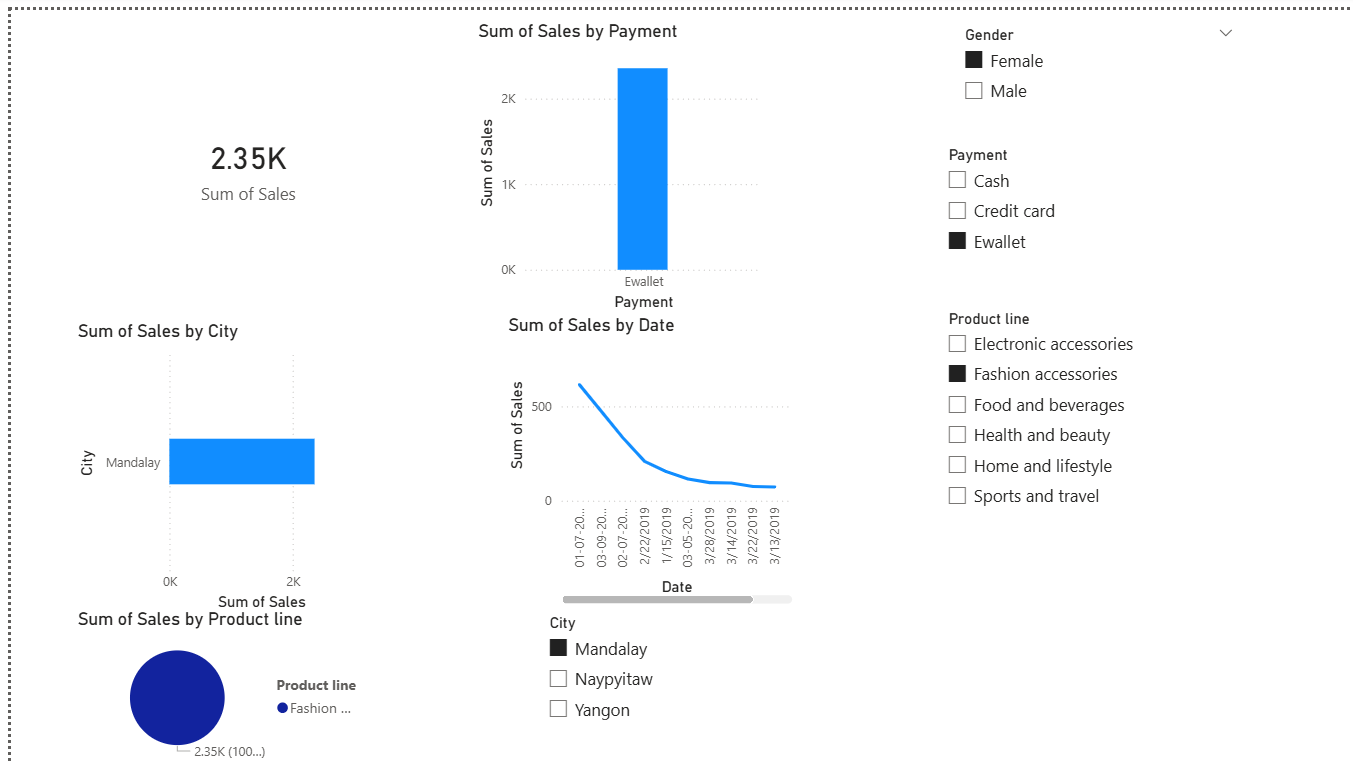

What the dashboard file says about the page in this screenshot:
{"tool":"powerbi","page":{"name":"Page 1","canvas":[1280,720],"ordinal":0},"visuals":[{"type":"card","fields":{"Values":["Sum(SuperMarket Analysis.Sales)"]},"box":[85.7,10,280,280],"z":0},{"type":"clusteredBarChart","fields":{"Category":["SuperMarket Analysis.City"],"Y":["Sum(SuperMarket Analysis.Sales)"]},"box":[58.6,295.7,280,280],"z":1},{"type":"pieChart","fields":{"Category":["SuperMarket Analysis.Product line"],"Y":["Sum(SuperMarket Analysis.Sales)"]},"box":[58.6,570,280,150],"z":2},{"type":"clusteredColumnChart","fields":{"Category":["SuperMarket Analysis.Payment"],"Y":["Sum(SuperMarket Analysis.Sales)"]},"box":[440,10,280,280],"z":3},{"type":"lineChart","fields":{"Category":["SuperMarket Analysis.Date"],"Y":["Sum(SuperMarket Analysis.Sales)"]},"box":[468.6,290,280,280],"z":4},{"type":"slicer","fields":{"Values":["SuperMarket Analysis.City"]},"box":[500,570,280,150],"z":5},{"type":"slicer","fields":{"Values":["SuperMarket Analysis.Gender"]},"box":[895.7,10,280,114.3],"z":6},{"type":"slicer","fields":{"Values":["SuperMarket Analysis.Payment"]},"box":[880,124.3,280,155.7],"z":7},{"type":"slicer","fields":{"Values":["SuperMarket Analysis.Product line"]},"box":[880,280,280,228.6],"z":8}]}

Visuals, with their boxes in screenshot pixels (x1, y1, x2, y2), scaled from the page's 1280x720 canvas onto the 1353x765 screenshot:
card - Sum(SuperMarket Analysis.Sales): locate(91, 11, 387, 308)
clusteredBarChart - SuperMarket Analysis.City x Sum(SuperMarket Analysis.Sales): locate(62, 314, 358, 612)
pieChart - SuperMarket Analysis.Product line x Sum(SuperMarket Analysis.Sales): locate(62, 606, 358, 764)
clusteredColumnChart - SuperMarket Analysis.Payment x Sum(SuperMarket Analysis.Sales): locate(465, 11, 761, 308)
lineChart - SuperMarket Analysis.Date x Sum(SuperMarket Analysis.Sales): locate(495, 308, 791, 606)
slicer - SuperMarket Analysis.City: locate(529, 606, 824, 764)
slicer - SuperMarket Analysis.Gender: locate(947, 11, 1243, 132)
slicer - SuperMarket Analysis.Payment: locate(930, 132, 1226, 298)
slicer - SuperMarket Analysis.Product line: locate(930, 298, 1226, 540)
